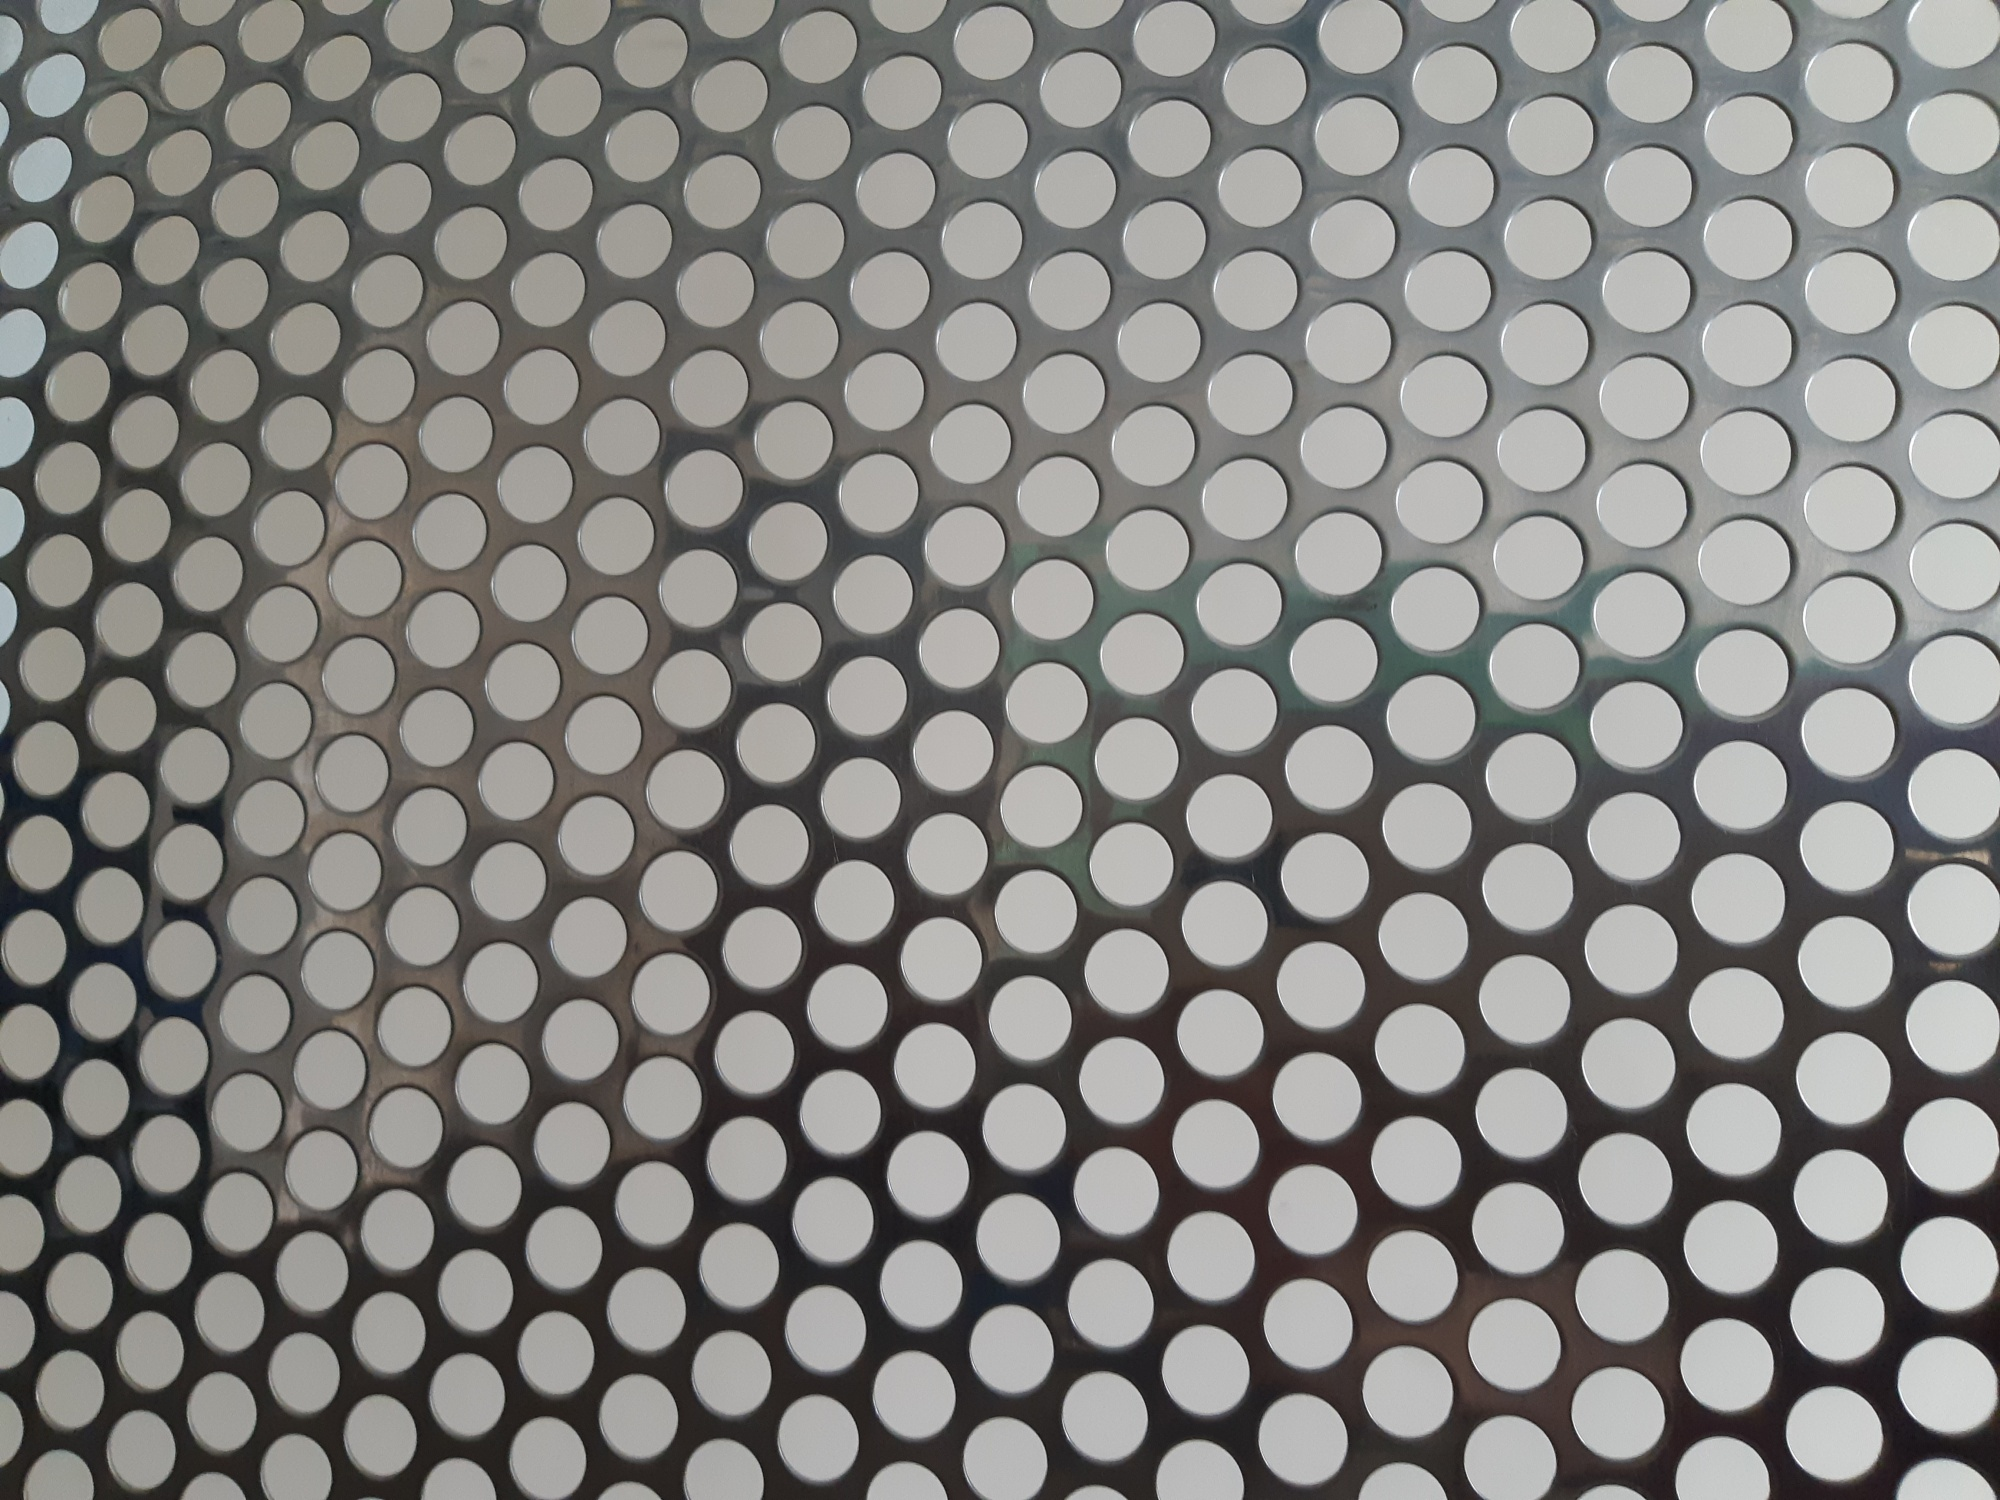Hole: (1780, 1376, 1893, 1494), (1564, 1353, 1672, 1472), (1791, 1023, 1902, 1130), (1461, 1287, 1567, 1401), (1691, 506, 1800, 614), (1357, 1336, 1461, 1450), (1677, 1193, 1783, 1301), (1258, 1272, 1364, 1379), (1795, 679, 1902, 785), (1691, 619, 1797, 726), (1483, 614, 1589, 722), (1800, 454, 1906, 559), (1572, 1242, 1676, 1349), (1682, 1078, 1789, 1182), (1795, 911, 1902, 1015), (1802, 569, 1906, 676), (1362, 1220, 1465, 1328), (1573, 1125, 1677, 1231), (1372, 886, 1476, 991), (1583, 785, 1688, 889), (1252, 1383, 1354, 1491), (1676, 1311, 1776, 1420), (1789, 1259, 1888, 1369), (1581, 900, 1683, 1005), (1584, 676, 1690, 778), (1591, 455, 1696, 558), (1791, 1141, 1891, 1248), (1797, 793, 1898, 900), (1693, 402, 1800, 503), (1800, 347, 1902, 451), (1391, 347, 1494, 449), (1802, 239, 1904, 343), (1471, 1062, 1576, 1163), (1685, 964, 1791, 1065), (1687, 737, 1792, 838), (1265, 1157, 1364, 1264), (1269, 1043, 1369, 1150), (1468, 1177, 1570, 1279), (1376, 774, 1479, 876), (1589, 562, 1690, 666), (1369, 1109, 1468, 1215), (1157, 1316, 1254, 1424), (1477, 837, 1580, 937), (1480, 726, 1583, 827), (1276, 822, 1375, 926), (1283, 614, 1384, 715), (1381, 670, 1482, 770), (998, 652, 1098, 755), (1291, 501, 1391, 603), (1578, 1015, 1680, 1114), (1690, 849, 1792, 949), (1169, 1093, 1266, 1197), (1164, 1204, 1258, 1309), (1195, 551, 1290, 657), (1280, 720, 1380, 819), (1272, 934, 1373, 1032), (1389, 559, 1487, 660), (1069, 1142, 1165, 1245), (1591, 348, 1693, 444), (1058, 1366, 1153, 1470), (1496, 191, 1602, 284), (1172, 983, 1269, 1082), (1198, 447, 1294, 548), (1306, 186, 1402, 287), (1496, 295, 1597, 391), (1392, 452, 1490, 550), (1406, 36, 1504, 134), (1476, 950, 1575, 1046), (1802, 137, 1901, 233), (1491, 400, 1592, 495), (1802, 33, 1902, 128), (1372, 1001, 1469, 1097), (1183, 767, 1277, 867), (1294, 399, 1394, 493), (1702, 191, 1802, 285), (1403, 136, 1502, 230), (1602, 33, 1701, 128), (1065, 1256, 1157, 1357), (1083, 922, 1173, 1026), (1176, 874, 1272, 971), (1302, 291, 1397, 389), (1216, 139, 1310, 236), (1490, 509, 1587, 603), (1598, 244, 1698, 337), (702, 1109, 794, 1210), (1102, 499, 1197, 596), (991, 863, 1087, 958), (1701, 296, 1797, 391), (1098, 605, 1191, 703), (1701, 87, 1798, 180), (967, 1301, 1058, 1401), (787, 1171, 879, 1270), (775, 1390, 866, 1489), (1506, 88, 1605, 180), (594, 1369, 688, 1464), (920, 496, 1013, 592), (1013, 447, 1106, 544), (1106, 397, 1202, 490), (731, 696, 827, 789), (1087, 815, 1178, 912), (1189, 662, 1280, 759), (1600, 139, 1698, 230), (879, 1235, 967, 1336), (836, 441, 923, 544), (913, 599, 1006, 693), (902, 807, 995, 901), (984, 974, 1079, 1067), (718, 901, 811, 996), (1203, 347, 1298, 440), (1209, 243, 1302, 337), (1123, 93, 1217, 186), (1091, 711, 1183, 807), (817, 752, 909, 848), (883, 1125, 973, 1223), (694, 1218, 784, 1316), (869, 1347, 957, 1446), (611, 1153, 699, 1253), (1024, 243, 1117, 336), (1120, 192, 1213, 285), (1219, 36, 1310, 131), (1402, 244, 1496, 336), (1076, 1034, 1165, 1130), (890, 1016, 980, 1112), (619, 1051, 709, 1147), (710, 1005, 798, 1103), (973, 1190, 1061, 1287), (983, 1078, 1069, 1177), (805, 956, 891, 1056), (690, 1325, 776, 1424), (1113, 296, 1206, 388), (551, 789, 639, 886), (783, 1281, 869, 1379), (846, 243, 937, 334), (1030, 143, 1121, 235), (665, 339, 754, 432), (756, 291, 846, 384), (654, 544, 743, 637), (1009, 551, 1099, 644), (1310, 88, 1403, 178), (797, 1067, 885, 1161), (513, 1308, 598, 1405), (521, 1199, 606, 1297), (387, 778, 469, 879), (931, 295, 1022, 384), (573, 488, 661, 581), (1035, 43, 1128, 131), (740, 594, 825, 690), (561, 689, 646, 785), (531, 1097, 614, 1194), (539, 991, 620, 1090), (928, 395, 1017, 485), (841, 345, 931, 435), (939, 194, 1028, 284), (1020, 348, 1109, 440), (828, 548, 920, 637), (997, 758, 1085, 849), (647, 646, 735, 737), (898, 914, 986, 1005), (943, 91, 1031, 183), (625, 949, 713, 1040), (745, 496, 831, 589), (569, 589, 654, 684), (910, 703, 995, 797), (813, 854, 898, 949), (465, 835, 550, 930), (643, 742, 726, 838), (395, 681, 479, 777), (605, 1264, 693, 1353), (753, 392, 839, 484), (728, 800, 813, 893), (474, 734, 557, 829), (852, 147, 939, 236), (635, 846, 721, 936), (825, 651, 909, 744), (507, 243, 594, 331), (672, 244, 759, 332), (398, 585, 487, 671), (764, 192, 847, 284), (546, 890, 630, 982), (860, 49, 946, 136), (580, 391, 665, 479), (584, 291, 669, 380), (408, 488, 493, 577), (479, 637, 564, 725), (493, 440, 576, 529), (767, 99, 857, 183), (490, 539, 572, 630), (680, 147, 765, 233), (663, 443, 746, 531), (331, 436, 413, 526), (501, 340, 584, 427), (595, 195, 676, 285), (340, 340, 420, 430), (416, 391, 499, 476), (422, 293, 502, 380), (603, 102, 682, 191), (690, 54, 772, 137), (517, 150, 597, 235), (430, 200, 510, 284), (357, 154, 436, 236), (350, 247, 425, 331), (279, 205, 353, 287), (211, 161, 282, 246), (19, 46, 88, 124), (146, 124, 216, 199), (83, 84, 150, 161)
